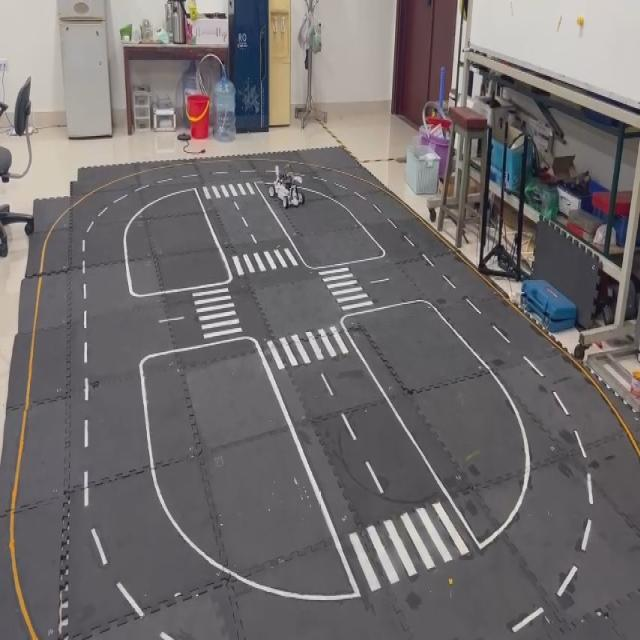SiCo-CAR: (267, 162, 305, 210)
